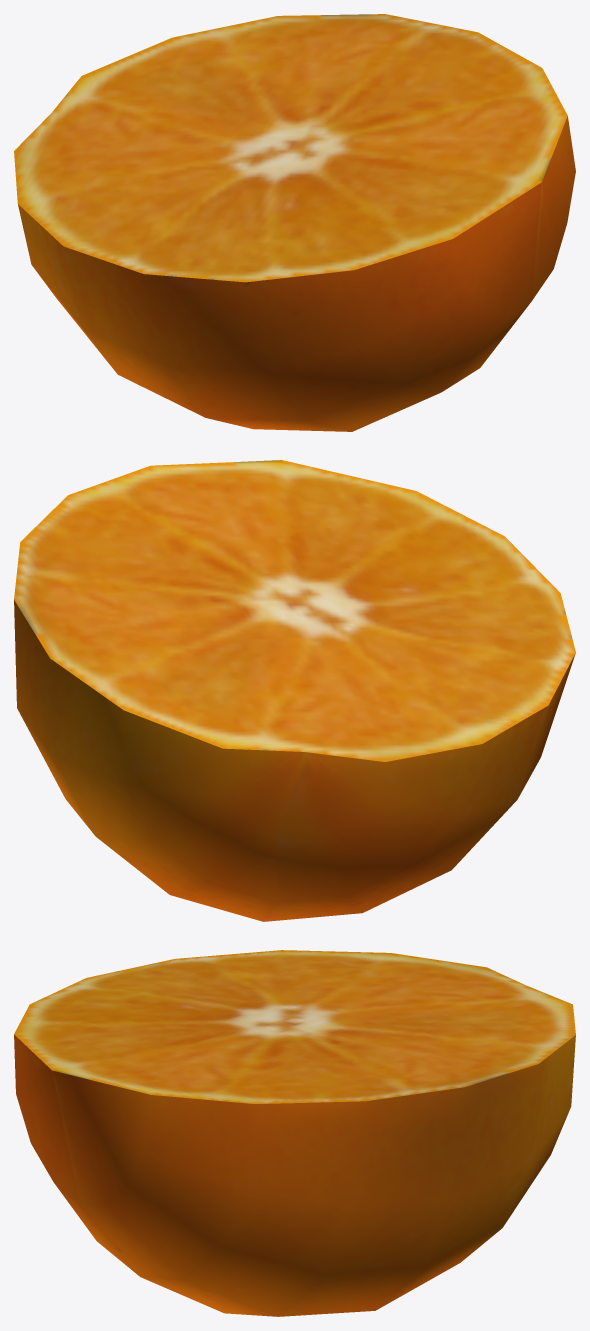
File: orange_part_1.FBX
3 views of the same model, one above another, from view 1: azimuth 30°, elevation 25°; view 2: azimuth 150°, elevation 25°; view 3: azimuth 270°, elevation 25° (orthographic). The views are drawn at different scales.
Parts seen in each view (by area): view 1: orange_part_1; view 2: orange_part_1; view 3: orange_part_1.
Boxes of the visible parts, bbox=[...] form: orange_part_1: bbox=[14, 14, 575, 431]; orange_part_1: bbox=[14, 460, 575, 921]; orange_part_1: bbox=[14, 950, 575, 1316].
Bounding box in the file's own units: 0.1743 × 0.1076 × 0.1795.
